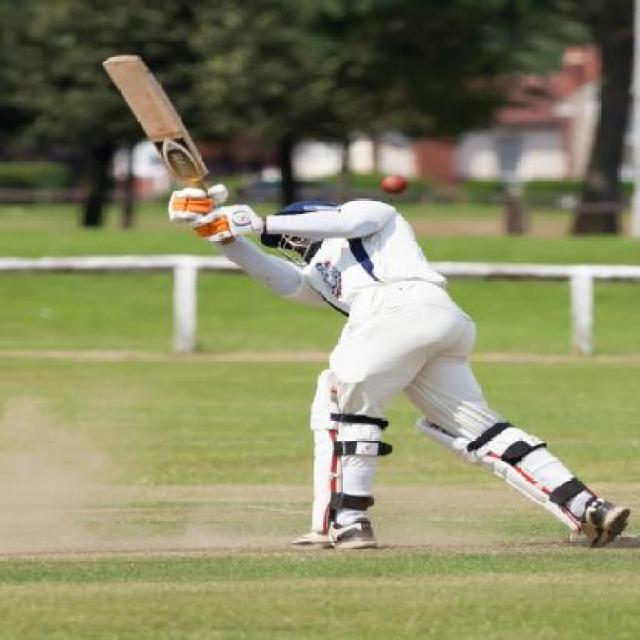-: (382, 156, 420, 213)
